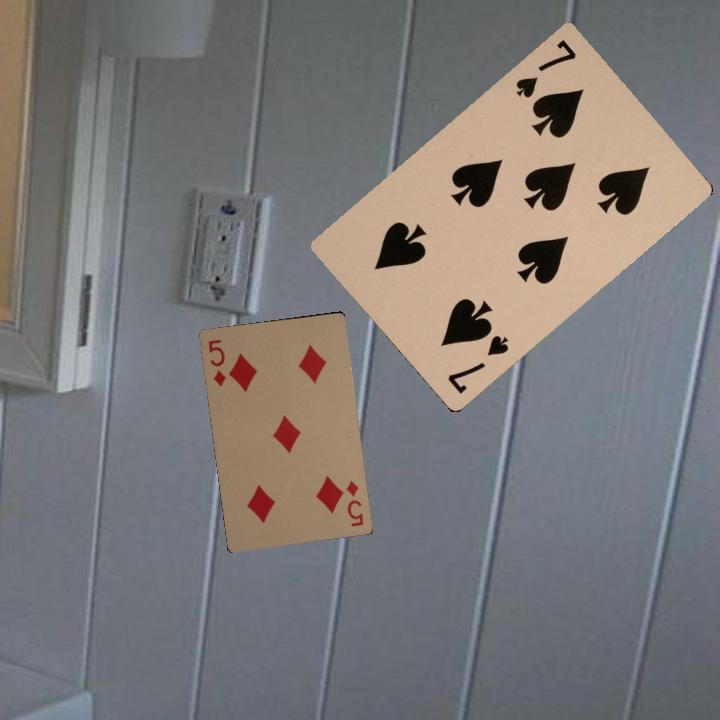5d: (204, 335, 228, 389), (342, 476, 366, 529)
7s: (443, 331, 511, 397), (512, 35, 579, 101)
